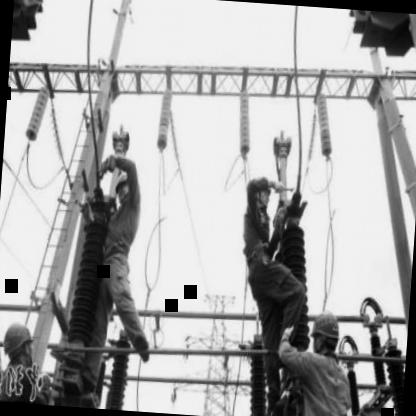helmet: (308, 308, 346, 357), (0, 318, 35, 369), (113, 171, 135, 208)
